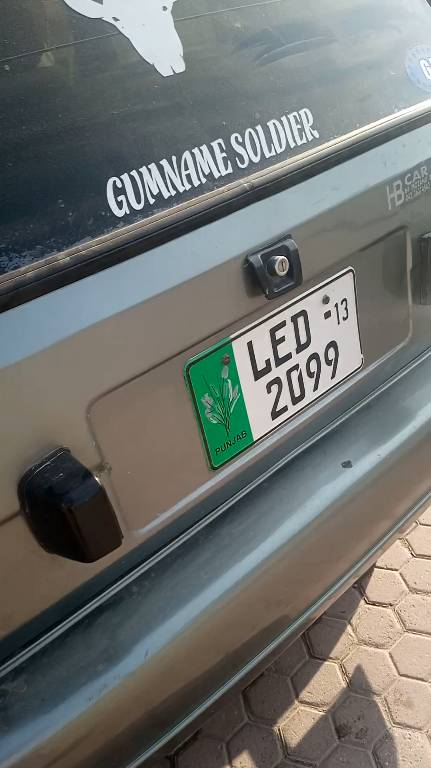number_plate: (182, 272, 408, 460)
